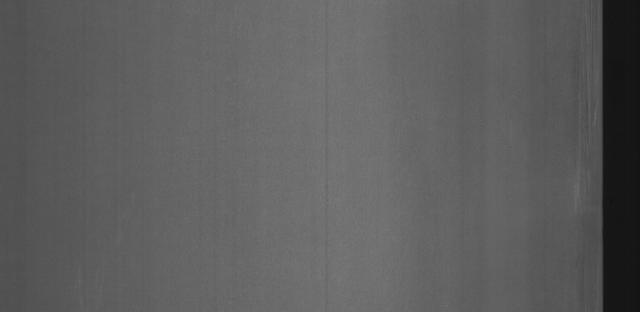silk_spot: (568, 17, 600, 205)
